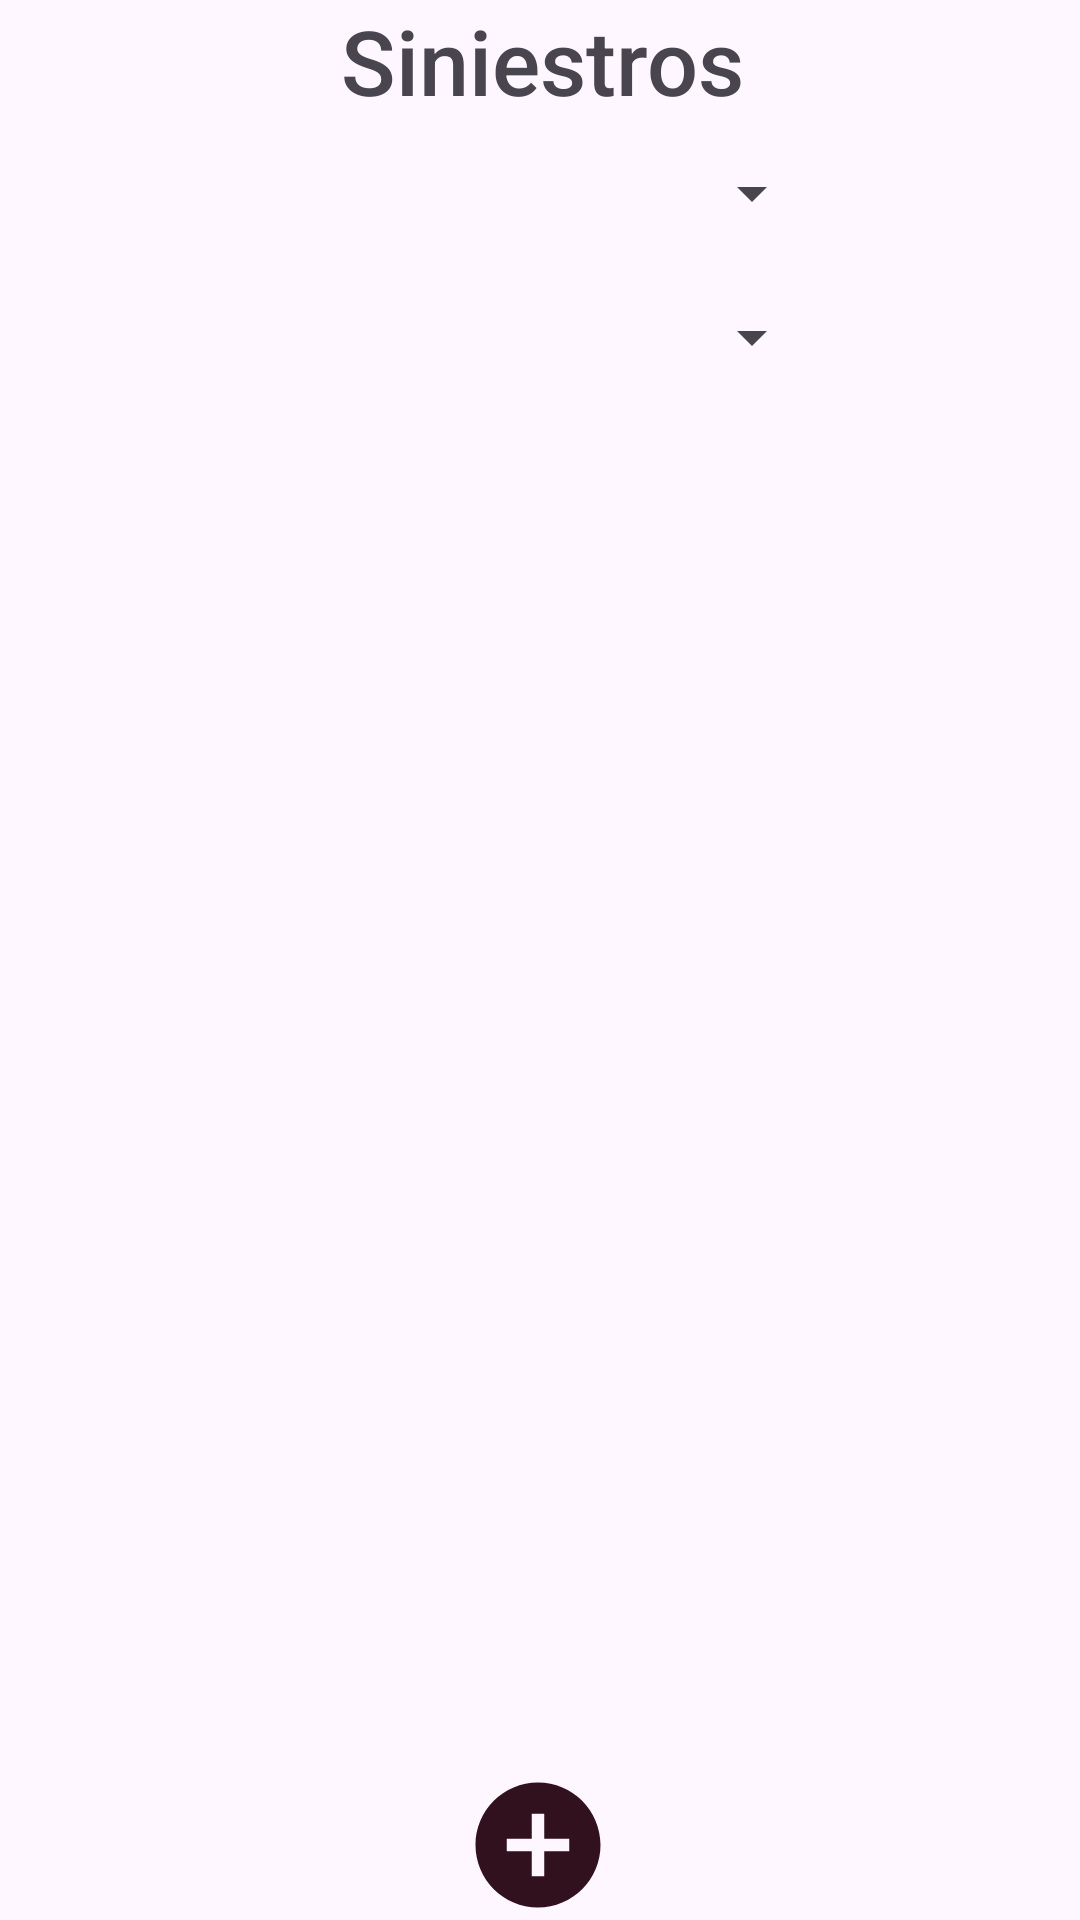

Icons on this 1080x1920 Android screen, each with its box as box(x1, y1, x2, y2):
add circle: box(475, 1782, 601, 1908)
